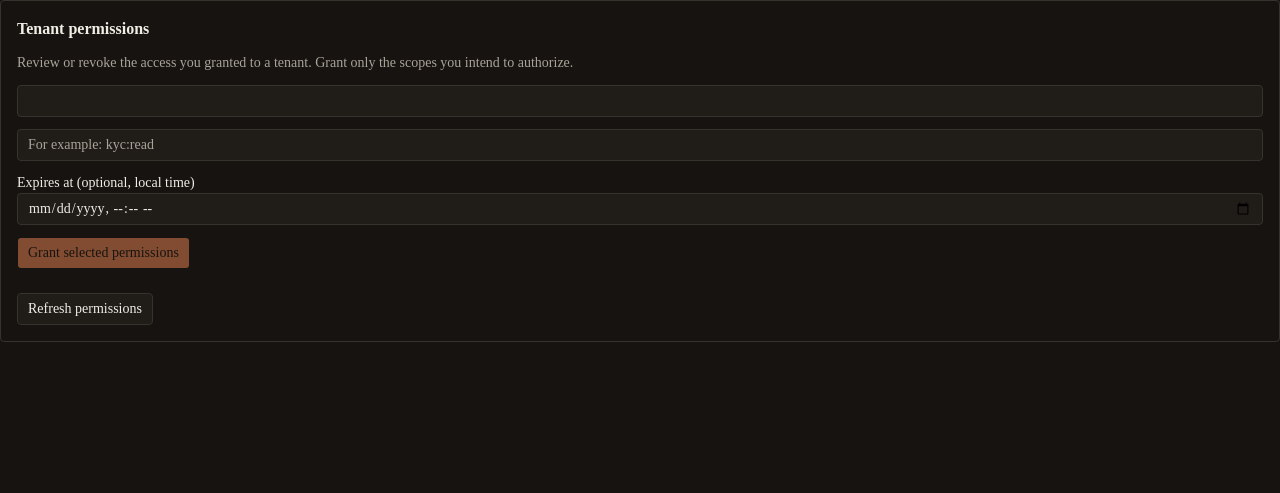
Test case: persists before submission and recovers the original command without treating its receipt as current permission
Step 1. Type "22222222-2222-2222-2222-222222222222" into the field named "Tenant ID for consent" → (640, 101), box [17,85,1263,117]
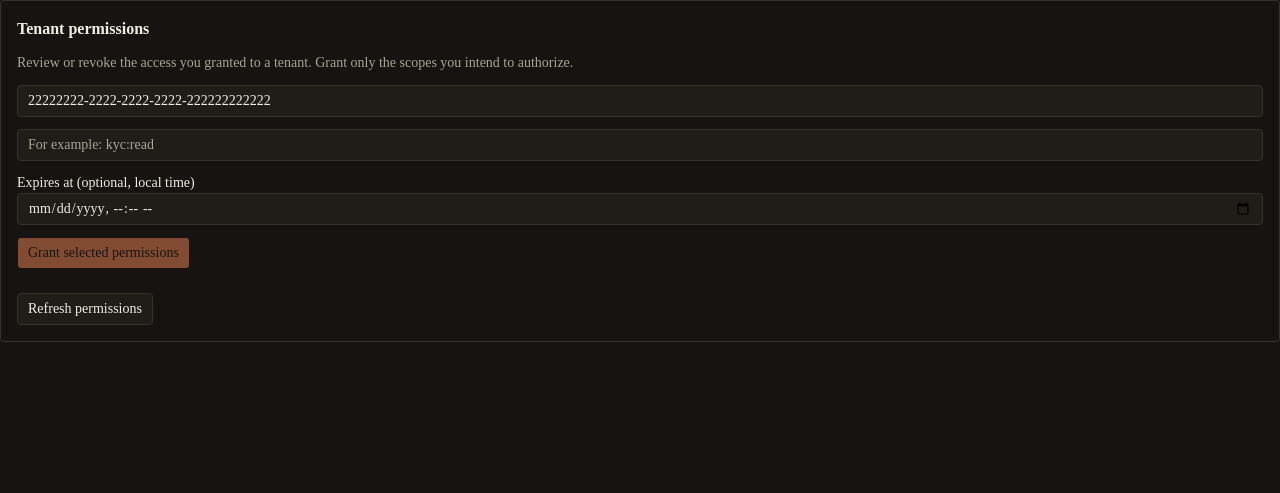
Step 2. Type "kyc:read" into the field named "Consent scopes" → (640, 145), box [17,129,1263,161]
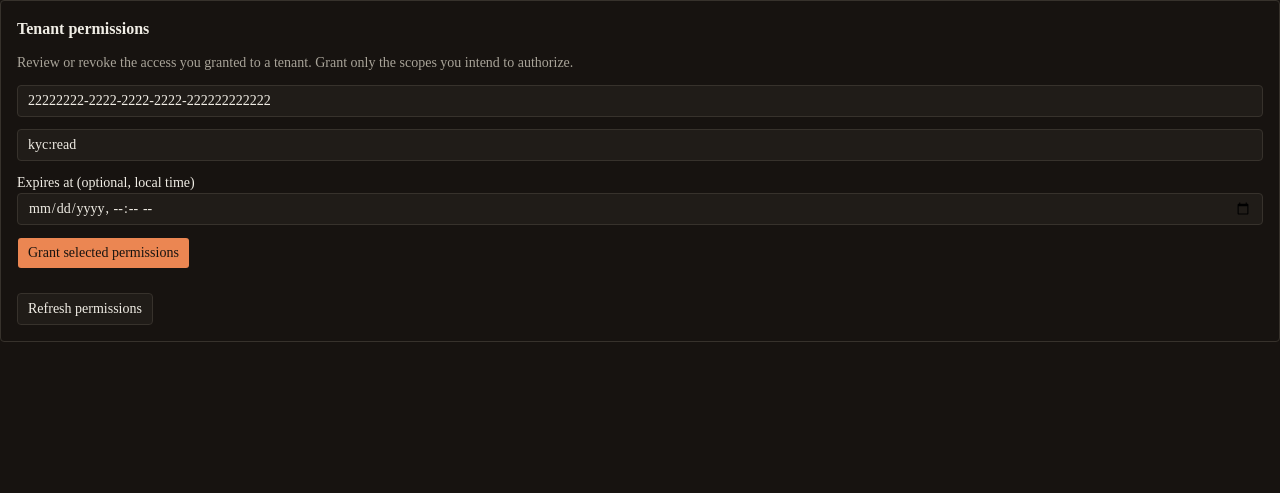
Step 3. Click the button "Grant selected permissions" → click(103, 253), box [17,237,190,269]
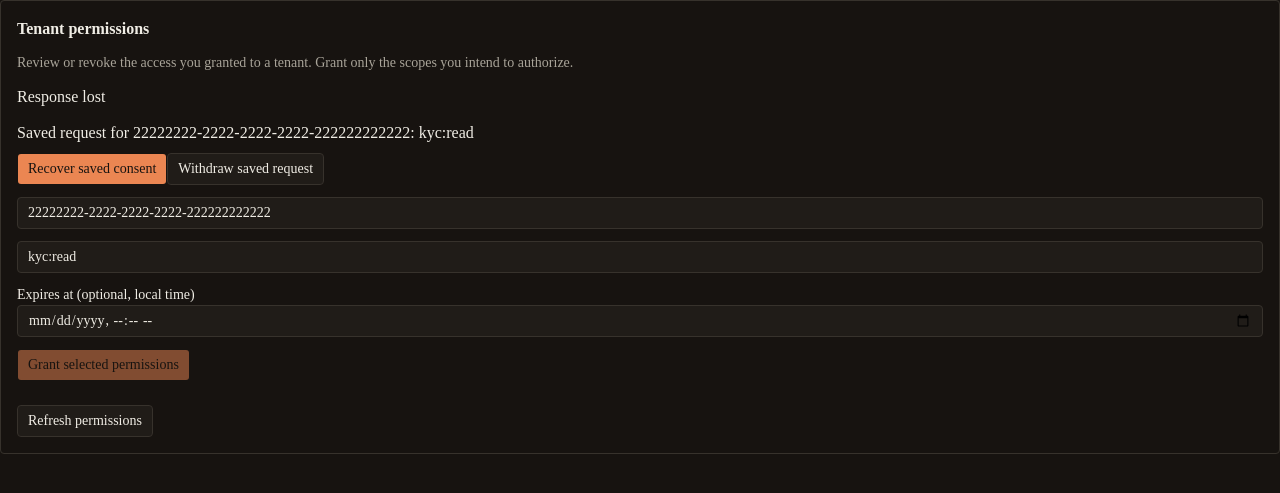
expect the text "Response lost" is shown: met, box [17,88,106,105]
Step 4. Click the button "Recover saved consent" → click(92, 169), box [17,153,167,185]
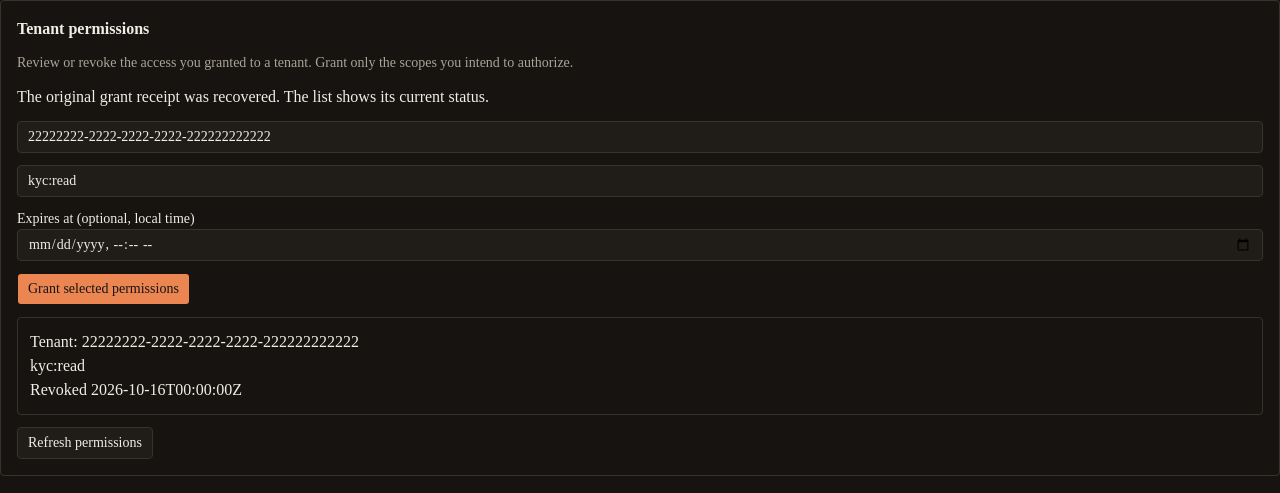
expect the text "Revoked 2026-10-16T00:00:00Z" is shown: met, box [30,381,242,398]
